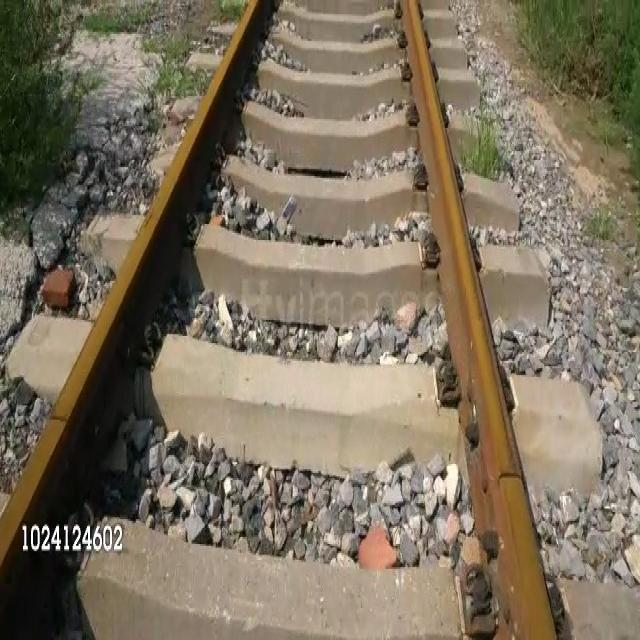Plant: (514, 0, 639, 231), (0, 2, 90, 213), (146, 27, 194, 102), (463, 121, 503, 175), (81, 8, 148, 31), (218, 1, 246, 24), (591, 216, 612, 239)
